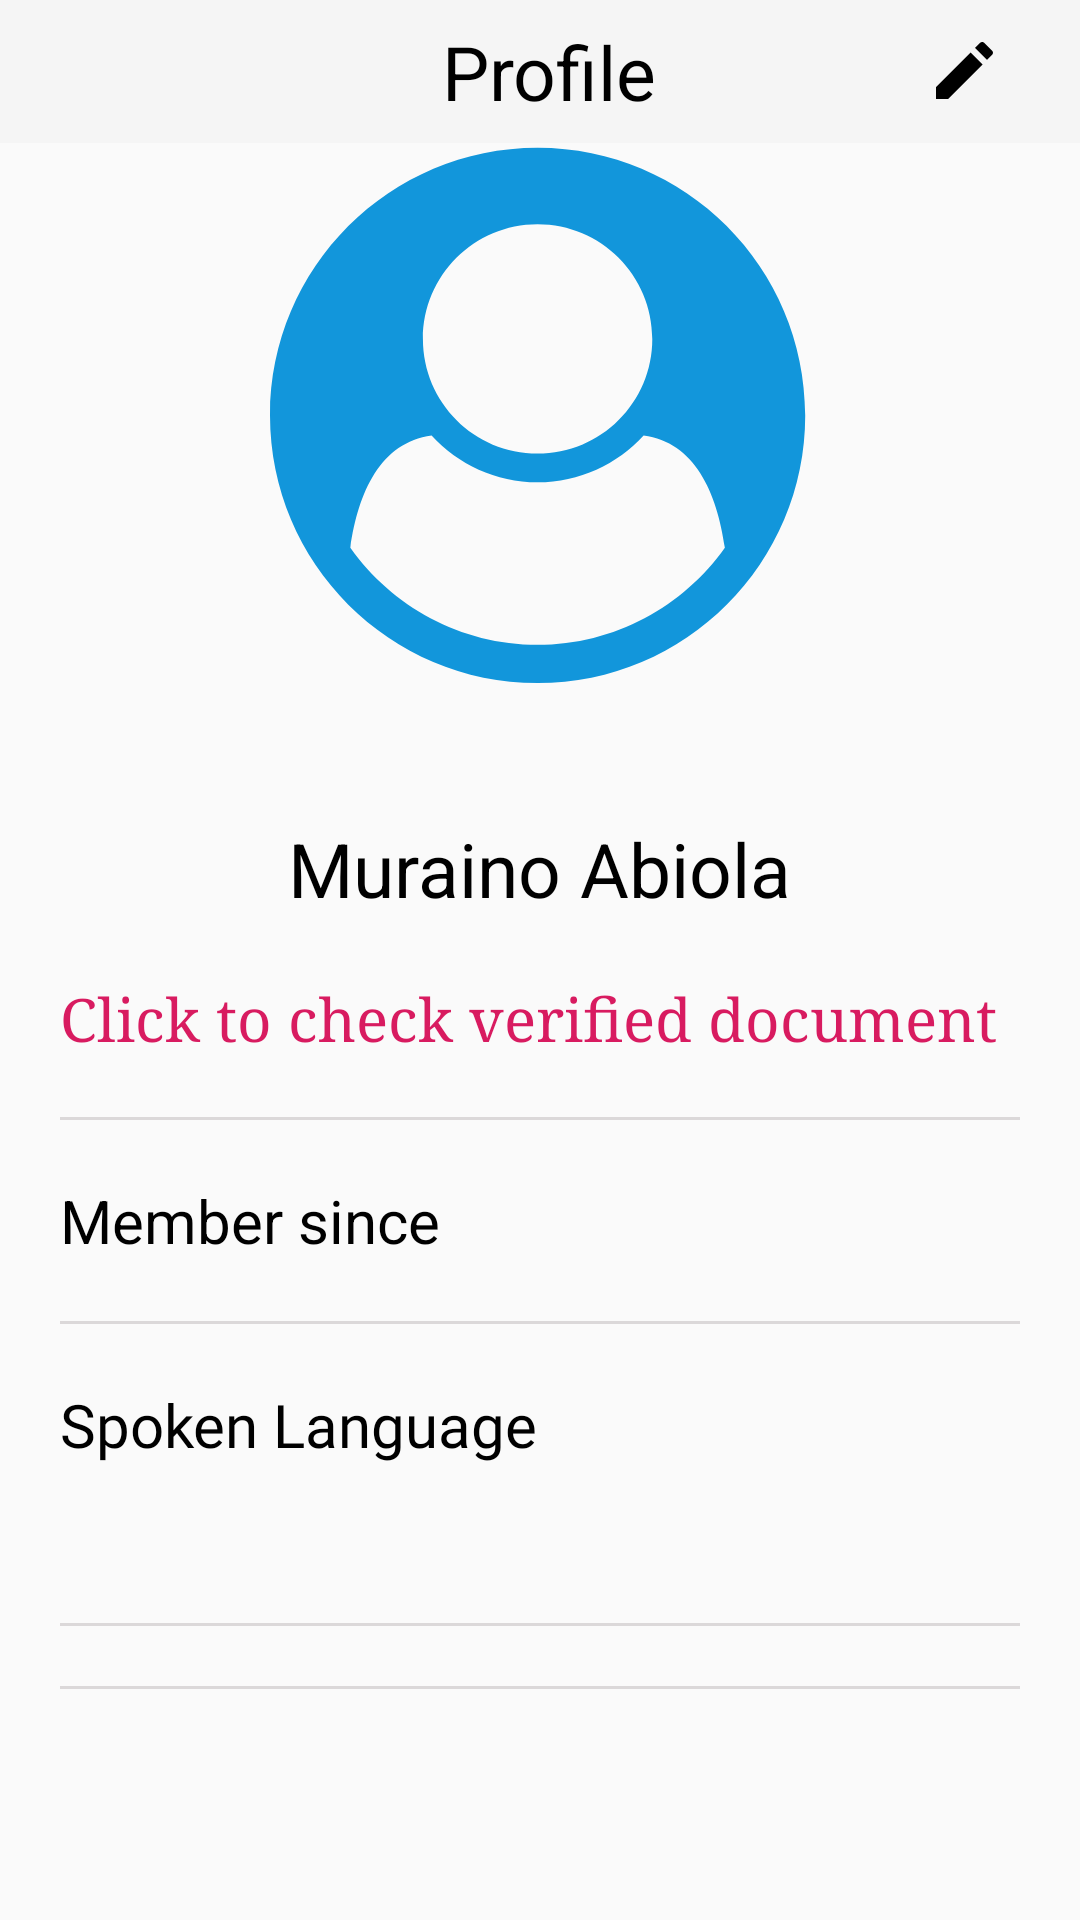

Screen size 1080w x 1920h. Icon name, then its center in pixels as (x=x, y=y):
edit: (x=964, y=70)
